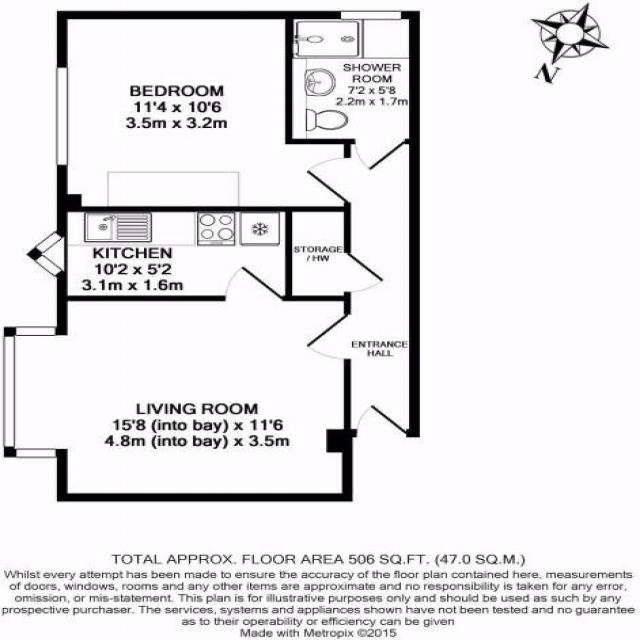DOOR: (223, 264, 285, 302), (303, 313, 351, 361), (303, 156, 351, 204), (354, 403, 408, 438), (353, 138, 407, 172)
ROOM: (3, 263, 353, 502), (56, 10, 352, 213), (24, 206, 293, 301)
WINDOW: (2, 326, 57, 458), (24, 230, 65, 278), (54, 66, 70, 168), (339, 10, 403, 21)
